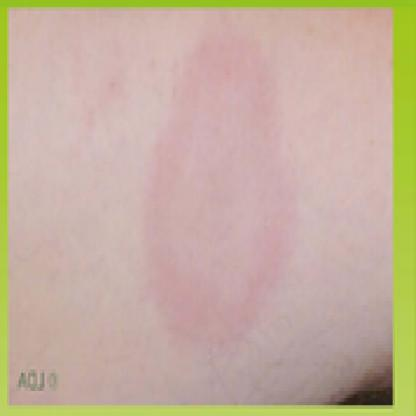Tick: (143, 25, 299, 341)
